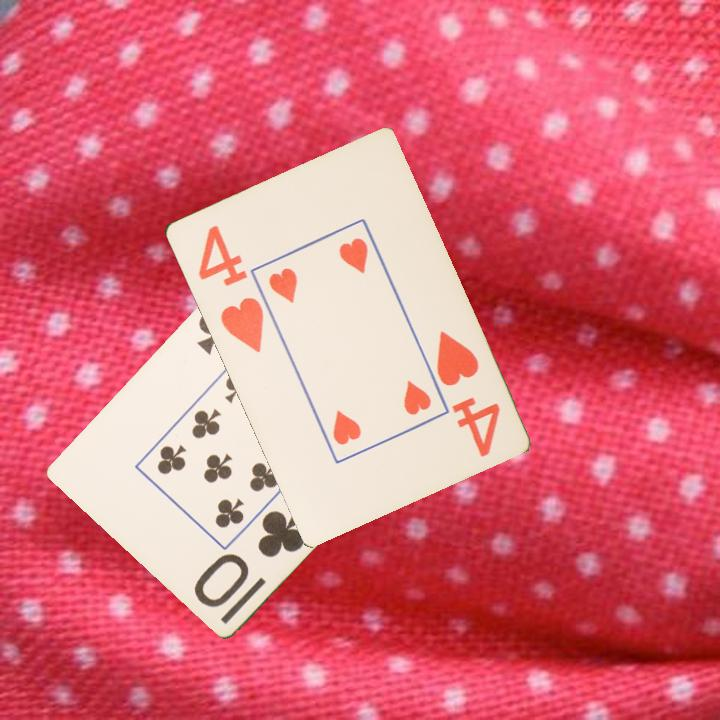10c: (190, 503, 311, 610)
4h: (193, 221, 266, 356), (432, 326, 503, 460)
